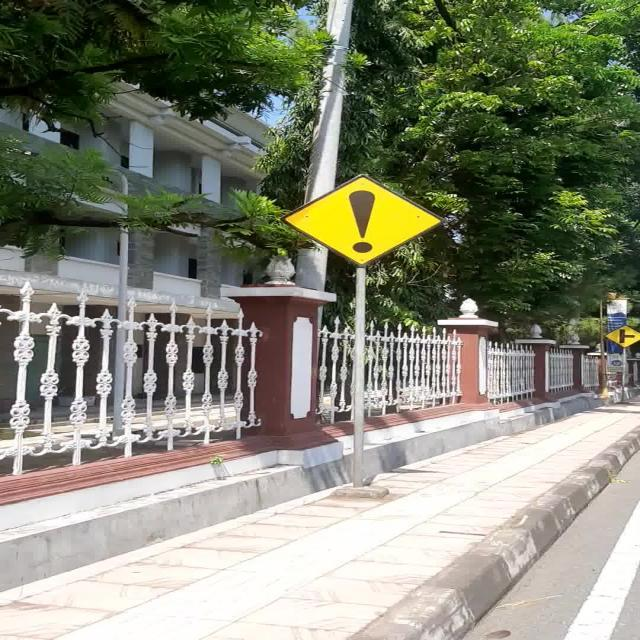Hati-Hati: (280, 174, 447, 268)
